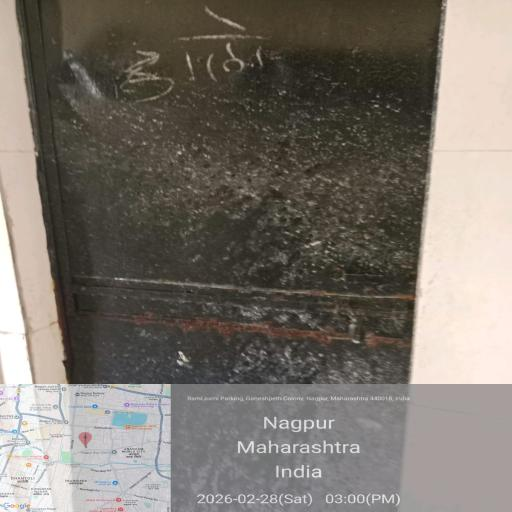clean_floor: (23, 38, 455, 456)
